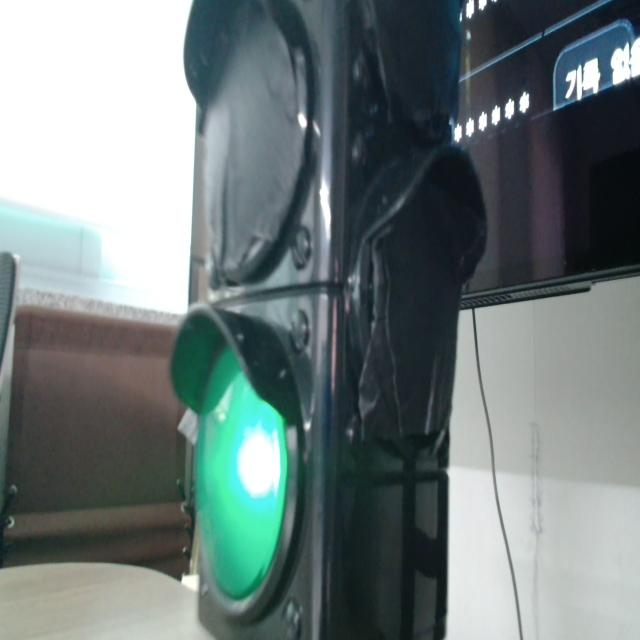green_light: (196, 350, 287, 599)
